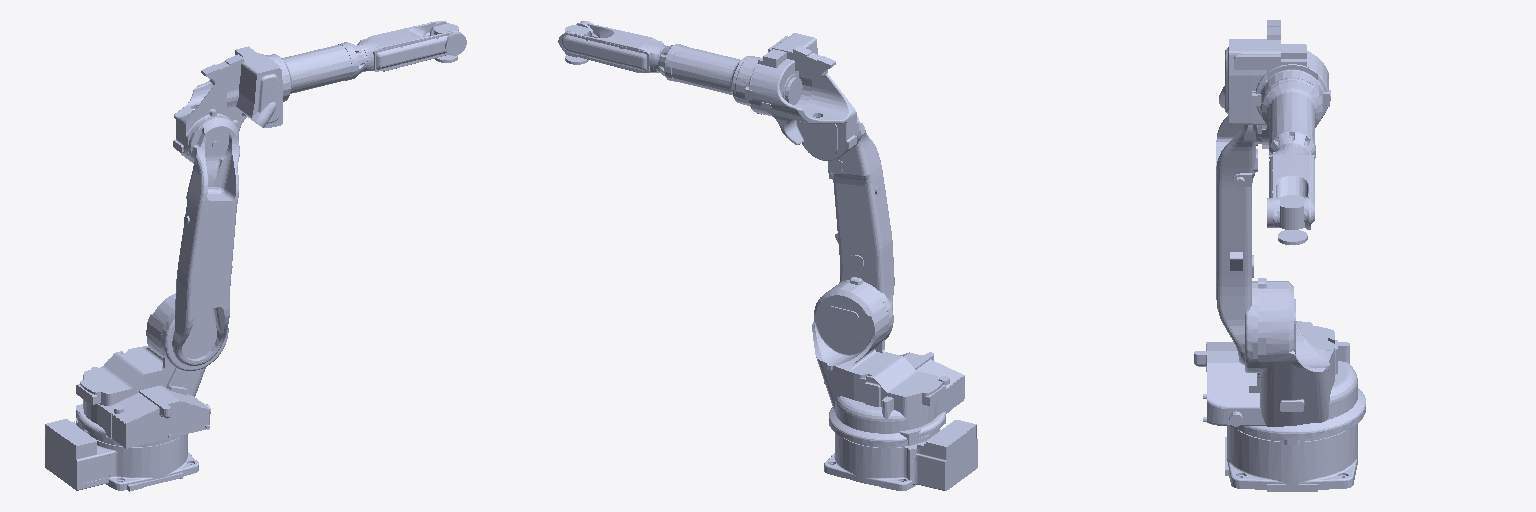
URDF robot description (welding_robot):
<?xml version="1.0"?>
<!-- This URDF was automatically created by SolidWorks to URDF Exporter! Originally created by [author] ([email redacted]) 
     Commit Version: 1.6.0-4-g7f85cfe  Build Version: 1.6.7995.38578
     For more information, please see http://wiki.ros.org/sw_urdf_exporter -->
<robot
  name="welding_robot">
  <link name="world"/>
    <joint name="base_joint" type="fixed">
    <parent link="world"/>
    <child link="base_link"/>
    <origin rpy="0 0 0" xyz="0.0 0.0 0.0"/>
  </joint>
  <link
    name="base_link">
    <inertial>
      <origin
        xyz="-0.055092 0.00050348 0.081633"
        rpy="0 0 0" />
      <mass
        value="24.355" />
      <inertia
        ixx="0.26628"
        ixy="0.0031172"
        ixz="0.019003"
        iyy="0.51507"
        iyz="-0.001216"
        izz="0.67125" />
    </inertial>
    <visual>
      <origin
        xyz="0 0 0"
        rpy="0 0 0" />
      <geometry>
        <mesh
          filename="package://Model_Robot/meshes/base_link.STL" />
      </geometry>
      <material
        name="">
        <color
          rgba="0.79608 0.82353 0.93725 1" />
      </material>
    </visual>
    <collision>
      <origin
        xyz="0 0 0"
        rpy="0 0 0" />
      <geometry>
        <mesh
          filename="package://Model_Robot/meshes/base_link.STL" />
      </geometry>
    </collision>
  </link>
  <link
    name="link_1">
    <inertial>
      <origin
        xyz="0.043093 -0.029565 0.15211"
        rpy="0 0 0" />
      <mass
        value="37.864" />
      <inertia
        ixx="0.88479"
        ixy="0.00066848"
        ixz="-0.27163"
        iyy="1.0858"
        iyz="0.022691"
        izz="0.95843" />
    </inertial>
    <visual>
      <origin
        xyz="0 0 0"
        rpy="0 0 0" />
      <geometry>
        <mesh
          filename="package://Model_Robot/meshes/link_1.STL" />
      </geometry>
      <material
        name="">
        <color
          rgba="0.79608 0.82353 0.93725 1" />
      </material>
    </visual>
    <collision>
      <origin
        xyz="0 0 0"
        rpy="0 0 0" />
      <geometry>
        <mesh
          filename="package://Model_Robot/meshes/link_1.STL" />
      </geometry>
    </collision>
  </link>
  <joint
    name="joint_1"
    type="revolute">
    <origin
      xyz="0 0 0.159"
      rpy="0 0 0" />
    <parent
      link="base_link" />
    <child
      link="link_1" />
    <axis
      xyz="0 0 1" />
    <limit
      lower="-1.92"
      upper="2.18"
      effort="50"
      velocity="3.14" />
  </joint>
  <link
    name="link_2">
    <inertial>
      <origin
        xyz="0.32253 0.016769 0.065572"
        rpy="0 0 0" />
      <mass
        value="13.122" />
      <inertia
        ixx="0.061393"
        ixy="-0.0098487"
        ixz="-0.0056629"
        iyy="0.72146"
        iyz="-0.0032035"
        izz="0.75021" />
    </inertial>
    <visual>
      <origin
        xyz="0 0 0"
        rpy="0 0 0" />
      <geometry>
        <mesh
          filename="package://Model_Robot/meshes/link_2.STL" />
      </geometry>
      <material
        name="">
        <color
          rgba="0.79608 0.82353 0.93725 1" />
      </material>
    </visual>
    <collision>
      <origin
        xyz="0 0 0"
        rpy="0 0 0" />
      <geometry>
        <mesh
          filename="package://Model_Robot/meshes/link_2.STL" />
      </geometry>
    </collision>
  </link>
  <joint
    name="joint_2"
    type="revolute">
    <origin
      xyz="0.185 -0.088997 0.368"
      rpy="1.5708 -1.4486 0" />
    <parent
      link="link_1" />
    <child
      link="link_2" />
    <axis
      xyz="0 0 1" />
    <limit
      lower="-2.0"
      upper="1.83"
      effort="50"
      velocity="3.05" />
  </joint>
  <link
    name="link_3">
    <inertial>
      <origin
        xyz="0.11621 -0.12279 -0.043519"
        rpy="0 0 0" />
      <mass
        value="12.871" />
      <inertia
        ixx="0.17797"
        ixy="0.071595"
        ixz="-0.011927"
        iyy="0.17913"
        iyz="0.0062443"
        izz="0.23317" />
    </inertial>
    <visual>
      <origin
        xyz="0 0 0"
        rpy="0 0 0" />
      <geometry>
        <mesh
          filename="package://Model_Robot/meshes/link_3.STL" />
      </geometry>
      <material
        name="">
        <color
          rgba="0.79608 0.82353 0.93725 1" />
      </material>
    </visual>
    <collision>
      <origin
        xyz="0 0 0"
        rpy="0 0 0" />
      <geometry>
        <mesh
          filename="package://Model_Robot/meshes/link_3.STL" />
      </geometry>
    </collision>
  </link>
  <joint
    name="joint_3"
    type="revolute">
    <origin
      xyz="0.76 0 0"
      rpy="0 0 0.12217" />
    <parent
      link="link_2" />
    <child
      link="link_3" />
    <axis
      xyz="0 0 1" />
    <limit
      lower="-1.5"
      upper="3.9"
      effort="50"
      velocity="3.26" />
  </joint>
  <link
    name="link_4">
    <inertial>
      <origin
        xyz="-0.00015162 1.2749E-05 0.32065"
        rpy="0 0 0" />
      <mass
        value="10.964" />
      <inertia
        ixx="0.59366"
        ixy="-4.9178E-06"
        ixz="-0.00045563"
        iyy="0.59059"
        iyz="0.00014174"
        izz="0.030107" />
    </inertial>
    <visual>
      <origin
        xyz="0 0 0"
        rpy="0 0 0" />
      <geometry>
        <mesh
          filename="package://Model_Robot/meshes/link_4.STL" />
      </geometry>
      <material
        name="">
        <color
          rgba="0.79608 0.82353 0.93725 1" />
      </material>
    </visual>
    <collision>
      <origin
        xyz="0 0 0"
        rpy="0 0 0" />
      <geometry>
        <mesh
          filename="package://Model_Robot/meshes/link_4.STL" />
      </geometry>
    </collision>
  </link>
  <joint
    name="joint_4"
    type="revolute">
    <origin
      xyz="0.15 -0.25 -0.088997"
      rpy="-1.5708 0 3.1416" />
    <parent
      link="link_3" />
    <child
      link="link_4" />
    <axis
      xyz="0 0 1" />
    <limit
      lower="-3.49"
      upper="3.49"
      effort="39.2"
      velocity="6.98" />
  </joint>
  <link
    name="link_5">
    <inertial>
      <origin
        xyz="0 0.00070374 -0.016382"
        rpy="0 0 0" />
      <mass
        value="0.64718" />
      <inertia
        ixx="0.0010097"
        ixy="5.5021E-21"
        ixz="-1.2847E-20"
        iyy="0.001063"
        iyz="5.7299E-06"
        izz="0.00061302" />
    </inertial>
    <visual>
      <origin
        xyz="0 0 0"
        rpy="0 0 0" />
      <geometry>
        <mesh
          filename="package://Model_Robot/meshes/link_5.STL" />
      </geometry>
      <material
        name="">
        <color
          rgba="0.79608 0.82353 0.93725 1" />
      </material>
    </visual>
    <collision>
      <origin
        xyz="0 0 0"
        rpy="0 0 0" />
      <geometry>
        <mesh
          filename="package://Model_Robot/meshes/link_5.STL" />
      </geometry>
    </collision>
  </link>
  <joint
    name="joint_5"
    type="revolute">
    <origin
      xyz="0 0 0.799"
      rpy="0 -1.5708 0" />
    <parent
      link="link_4" />
    <child
      link="link_5" />
    <axis
      xyz="0 1 0" />
    <limit
      lower="-0.9"
      upper="2.44"
      effort="39.2"
      velocity="6.98" />
  </joint>
  <link
    name="link_6">
    <inertial>
      <origin
        xyz="1.0842E-18 7.3024E-05 0.0071715"
        rpy="0 0 0" />
      <mass
        value="0.081492" />
      <inertia
        ixx="3.6198E-05"
        ixy="4.8596E-22"
        ixz="4.8859E-21"
        iyy="3.6454E-05"
        iyz="9.9471E-09"
        izz="6.9103E-05" />
    </inertial>
    <visual>
      <origin
        xyz="0 0 0"
        rpy="0 0 0" />
      <geometry>
        <mesh
          filename="package://Model_Robot/meshes/link_6.STL" />
      </geometry>
      <material
        name="">
        <color
          rgba="0.79608 0.82353 0.93725 1" />
      </material>
    </visual>
    <collision>
      <origin
        xyz="0 0 0"
        rpy="0 0 0" />
      <geometry>
        <mesh
          filename="package://Model_Robot/meshes/link_6.STL" />
      </geometry>
    </collision>
  </link>
  <joint
    name="joint_6"
    type="revolute">
    <origin
      xyz="0 0.0012226 -0.074956"
      rpy="3.1416 0 -1.5708" />
    <parent
      link="link_5" />
    <child
      link="link_6" />
    <axis
      xyz="0 0 1" />
    <limit
      lower="-6.28"
      upper="6.28"
      effort="19.6"
      velocity="10.47" />
  </joint>


  <transmission name="link_1_trans">
    <type>transmission_interface/SimpleTransmission</type>
    <joint name="joint_1">
      <hardwareInterface>hardware_interface/PositionJointInterface</hardwareInterface>
    </joint>
    <actuator name="link_1_motor">
      <hardwareInterface>hardware_interface/PositionJointInterface</hardwareInterface>
      <mechanicalReduction>1</mechanicalReduction>
    </actuator>
  </transmission>

  <transmission name="link_2_trans">
    <type>transmission_interface/SimpleTransmission</type>
    <joint name="joint_2">
      <hardwareInterface>hardware_interface/PositionJointInterface</hardwareInterface>
    </joint>
    <actuator name="link_2_motor">
      <hardwareInterface>hardware_interface/PositionJointInterface</hardwareInterface>
      <mechanicalReduction>1</mechanicalReduction>
    </actuator>
  </transmission>

  <transmission name="link_3_trans">
    <type>transmission_interface/SimpleTransmission</type>
    <joint name="joint_3">
      <hardwareInterface>hardware_interface/PositionJointInterface</hardwareInterface>
    </joint>
    <actuator name="link_3_motor">
      <hardwareInterface>hardware_interface/PositionJointInterface</hardwareInterface>
      <mechanicalReduction>1</mechanicalReduction>
    </actuator>
  </transmission>

  <transmission name="link_4_trans">
    <type>transmission_interface/SimpleTransmission</type>
    <joint name="joint_4">
      <hardwareInterface>hardware_interface/PositionJointInterface</hardwareInterface>
    </joint>
    <actuator name="link_4_motor">
      <hardwareInterface>hardware_interface/PositionJointInterface</hardwareInterface>
      <mechanicalReduction>1</mechanicalReduction>
    </actuator>
  </transmission>

  <transmission name="link_5_trans">
    <type>transmission_interface/SimpleTransmission</type>
    <joint name="joint_5">
      <hardwareInterface>hardware_interface/PositionJointInterface</hardwareInterface>
    </joint>
    <actuator name="link_5_motor">
      <hardwareInterface>hardware_interface/PositionJointInterface</hardwareInterface>
      <mechanicalReduction>1</mechanicalReduction>
    </actuator>
  </transmission>

  <transmission name="link_6_trans">
    <type>transmission_interface/SimpleTransmission</type>
    <joint name="joint_6">
      <hardwareInterface>hardware_interface/PositionJointInterface</hardwareInterface>
    </joint>
    <actuator name="link_6_motor">
      <hardwareInterface>hardware_interface/PositionJointInterface</hardwareInterface>
      <mechanicalReduction>1</mechanicalReduction>
    </actuator>
  </transmission>

  <gazebo reference="link_1">
	  <selfCollide>true</selfCollide>
  </gazebo>

  <gazebo reference="link_2">
	  <selfCollide>true</selfCollide>
  </gazebo>

  <gazebo reference="link_3">
	  <selfCollide>true</selfCollide>
  </gazebo>

  <gazebo reference="link_4">
	  <selfCollide>true</selfCollide>
  </gazebo>

  <gazebo reference="link_5">
	  <selfCollide>true</selfCollide>
  </gazebo>

  <gazebo reference="link_6">
	  <selfCollide>true</selfCollide>
  </gazebo>

  <gazebo>
	  <plugin name="gazebo_ros_control" filename="libgazebo_ros_control.so">
		  <robotNamespace>/welding_robot</robotNamespace>
	  </plugin>
  </gazebo>


</robot>

--- What the picture shows (computed from the rendered views, not written in the file) ---
Views: 3 orthographic renders of the robot side by side, from view 1: azimuth 30°, elevation 25°; view 2: azimuth 150°, elevation 25°; view 3: azimuth 270°, elevation 25°.
Model welding_robot with 8 links and 7 joints (6 revolute, 1 fixed), rooted at world, posed every joint at zero.
Visible links, largest first — view 1: link_2, link_1, base_link, link_3, link_4, link_5; view 2: link_1, link_3, link_2, link_4, base_link; view 3: link_1, link_2, link_4, base_link, link_3, link_5.
Boxes of the visible links, x1,y1,x2,y2 form: link_2: [161, 116, 239, 370]; link_1: [76, 293, 210, 448]; base_link: [45, 419, 198, 491]; link_3: [173, 46, 282, 163]; link_4: [266, 21, 461, 101]; link_5: [434, 23, 466, 55]; link_1: [812, 277, 964, 447]; link_3: [749, 33, 858, 160]; link_2: [828, 116, 894, 339]; link_4: [558, 22, 761, 114]; base_link: [824, 420, 977, 490]; link_1: [1194, 278, 1365, 444]; link_2: [1216, 115, 1261, 372]; link_4: [1252, 64, 1329, 229]; base_link: [1225, 424, 1357, 491]; link_3: [1219, 20, 1330, 148]; link_5: [1267, 195, 1304, 229].
Size in the robot's own frame: 1.7 by 0.507 by 1.59 metres.
7 mesh visuals loaded from 7 distinct referenced files (7 binary STL).